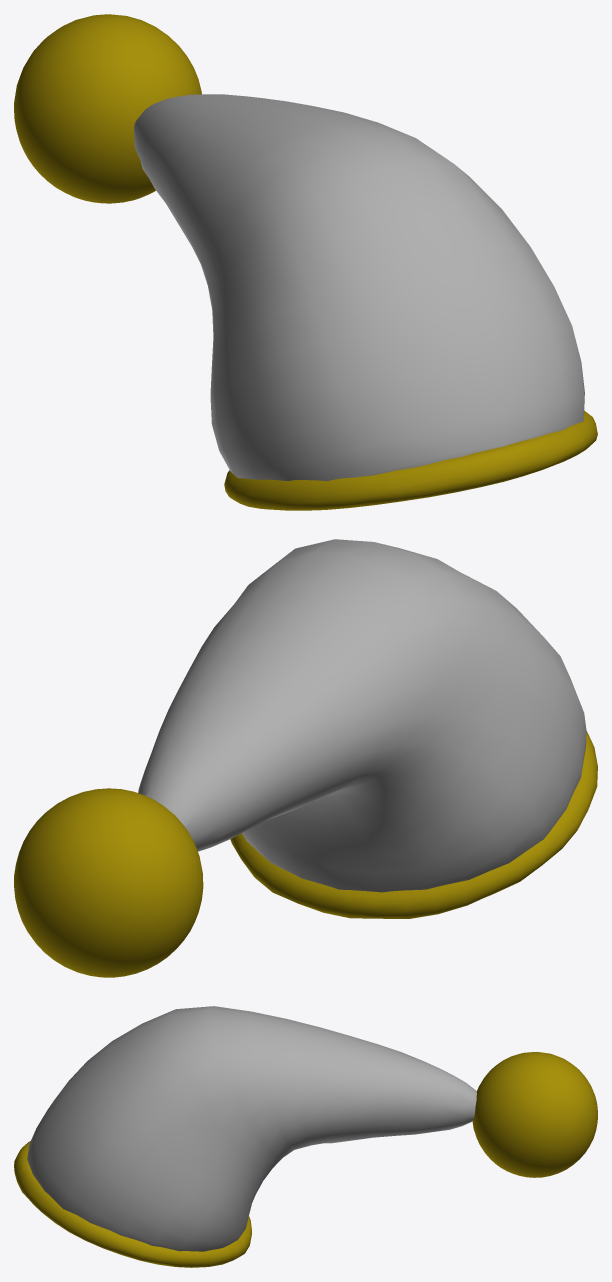
Rendered from Chapeau01.fbx.
3 renders of one model, top to bottom at view 1: azimuth 30°, elevation 25°; view 2: azimuth 150°, elevation 25°; view 3: azimuth 270°, elevation 25°, orthographic. The views are drawn at different scales.
Visible parts, largest first — view 1: Chapeau1_3, Chapeau1_1, Chapeau1_2; view 2: Chapeau1_3, Chapeau1_1, Chapeau1_2; view 3: Chapeau1_3, Chapeau1_1, Chapeau1_2.
Part boxes in pixels (<box>): Chapeau1_3: <box>134,94,584,481</box>; Chapeau1_1: <box>14,14,201,203</box>; Chapeau1_2: <box>224,411,597,510</box>; Chapeau1_3: <box>138,539,586,892</box>; Chapeau1_1: <box>14,788,203,977</box>; Chapeau1_2: <box>230,731,597,918</box>; Chapeau1_3: <box>27,1006,476,1251</box>; Chapeau1_1: <box>472,1052,597,1177</box>; Chapeau1_2: <box>14,1141,251,1267</box>.
Size of the model in its own units: 25.81 by 25.35 by 59.8.
